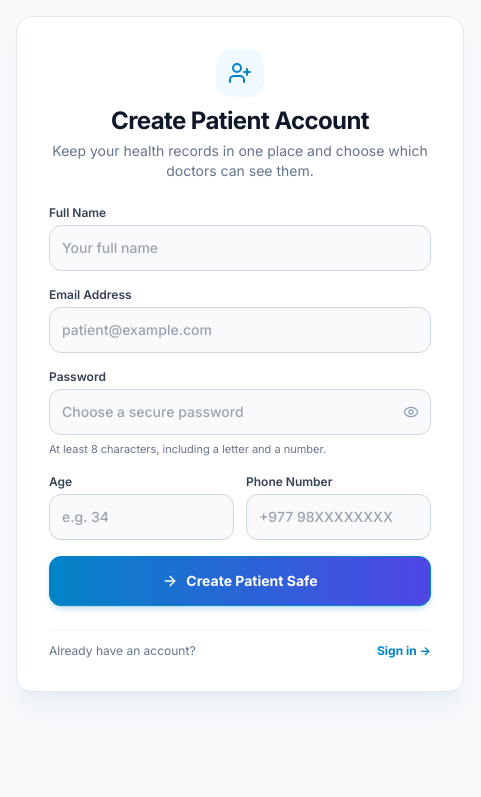
Scenario: patient registration form › the server’s message is shown when registration fails
This screenshot has width=481, height=797.
Type "Sita Sharma" into the field with placeholder "Your full name" at x=240, y=248, box [49,225,431,271]
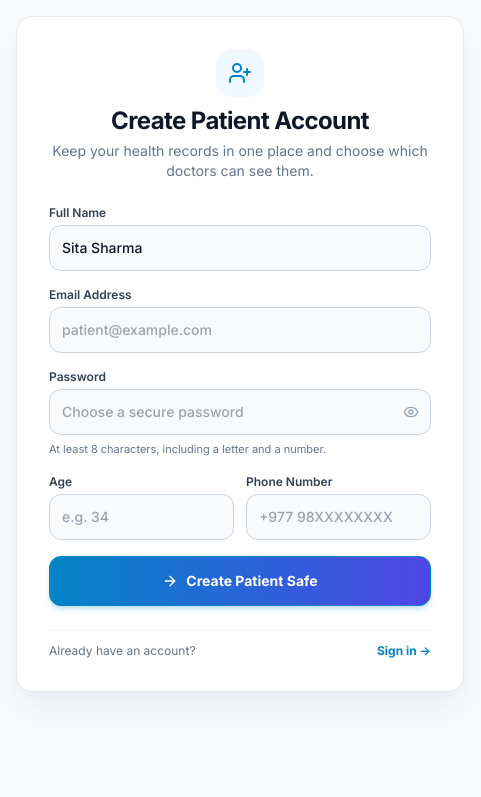
Type "sita@example.com" into the field with placeholder "patient@example.com" at x=240, y=330, box [49,307,431,353]
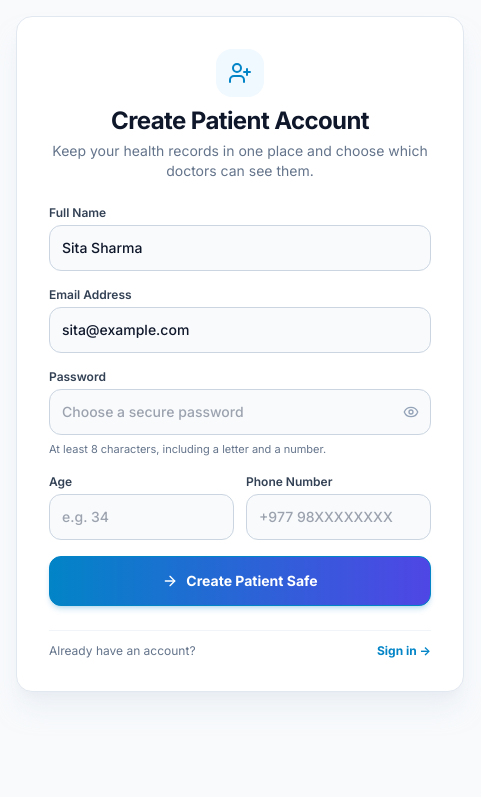
Type "goodpass9" into the password field with placeholder "Choose a secure password" at x=240, y=412, box [49,389,431,435]
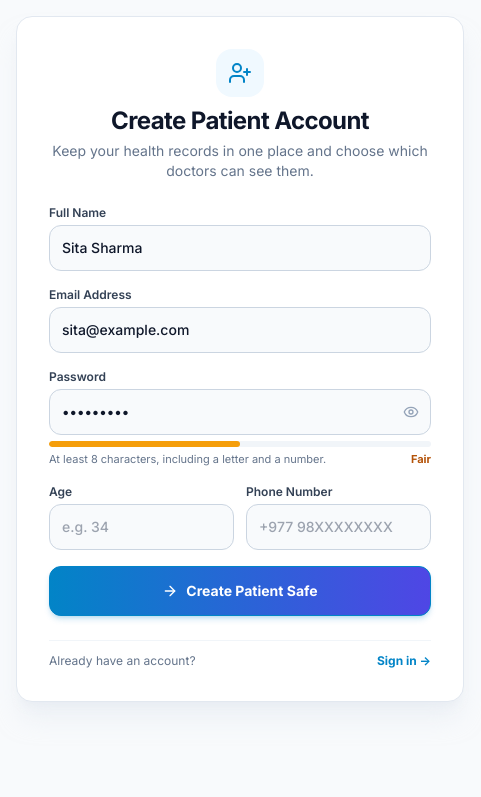
Submit the form, box [49,205,431,616]
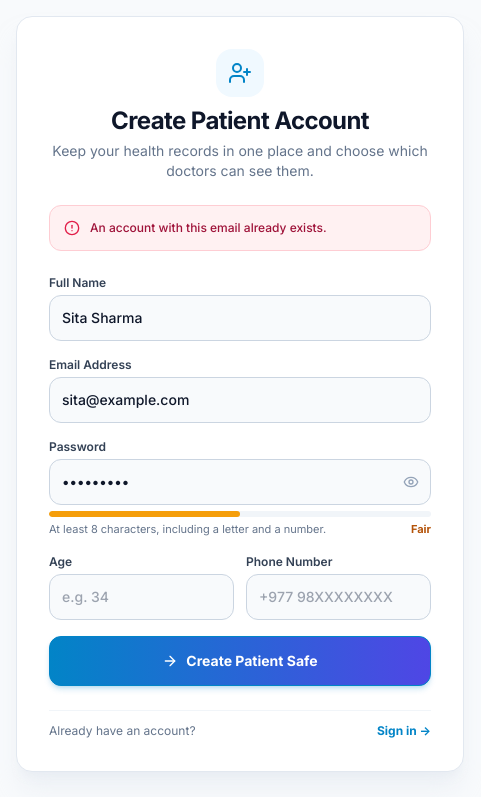
Check: the text "An account with this email already exists." is shown, box [90,220,327,236]
